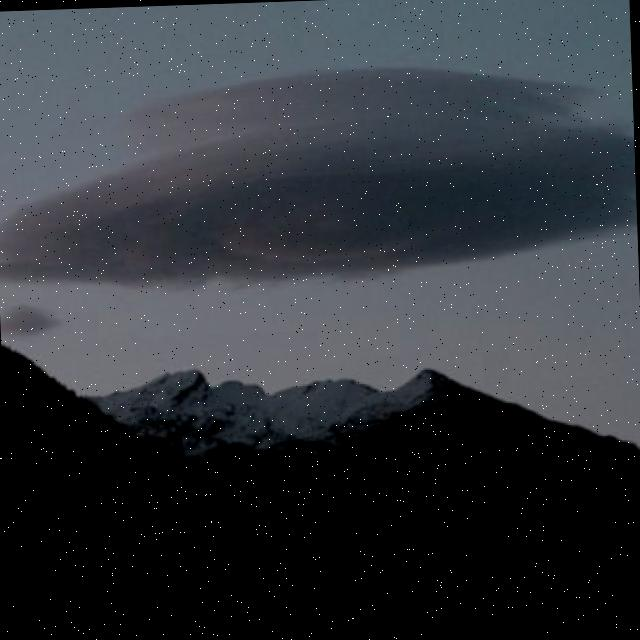Ac: (1, 48, 640, 301)
